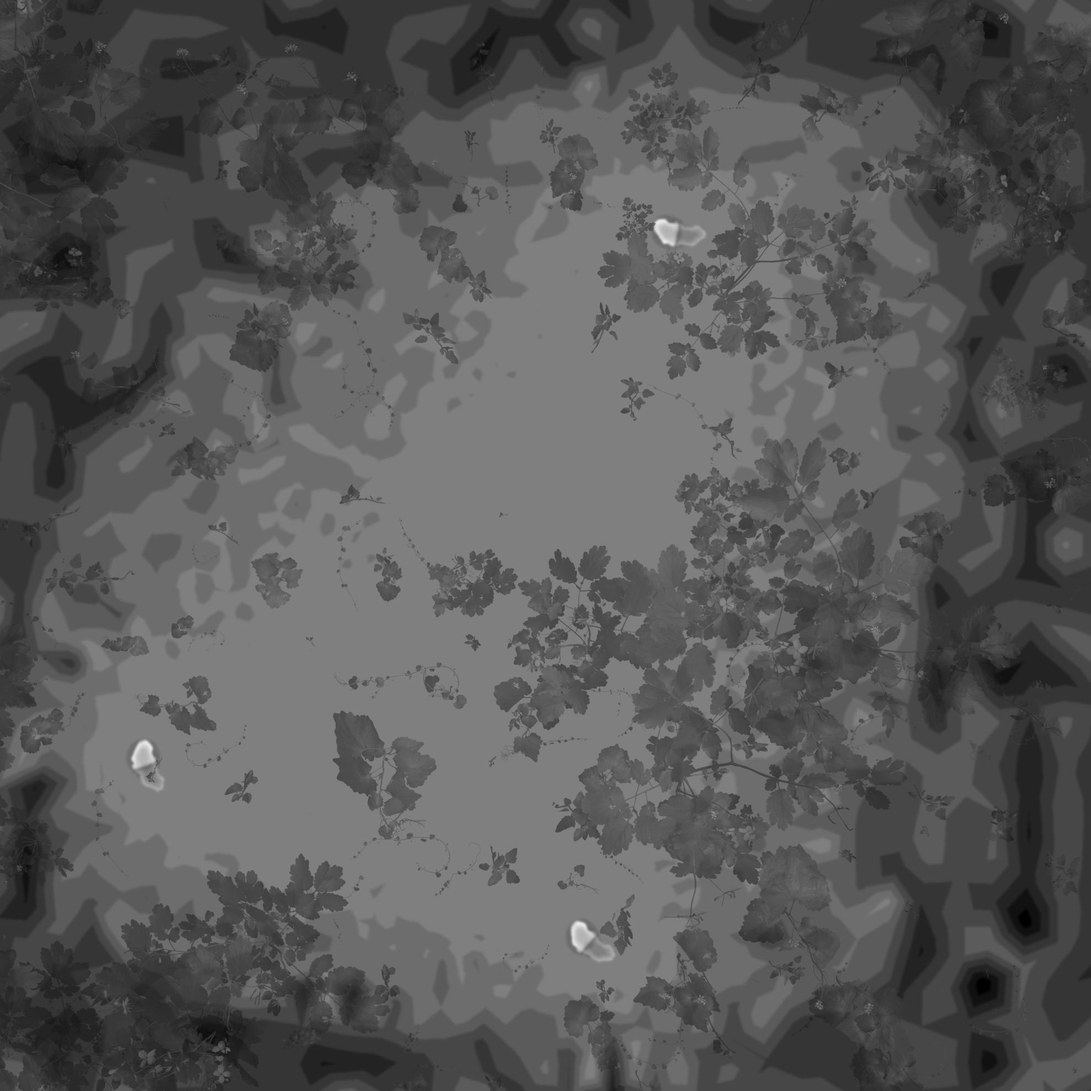landmine: (568, 918, 618, 967), (651, 214, 711, 252), (131, 736, 169, 796)
